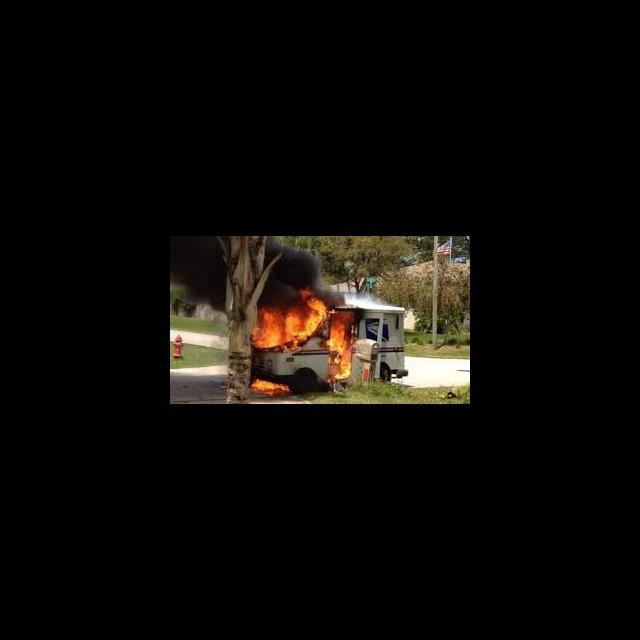Fire: (250, 290, 326, 350), (328, 309, 356, 379), (247, 376, 292, 396)
Smoke: (171, 236, 313, 290), (174, 290, 226, 309), (346, 287, 392, 307)
